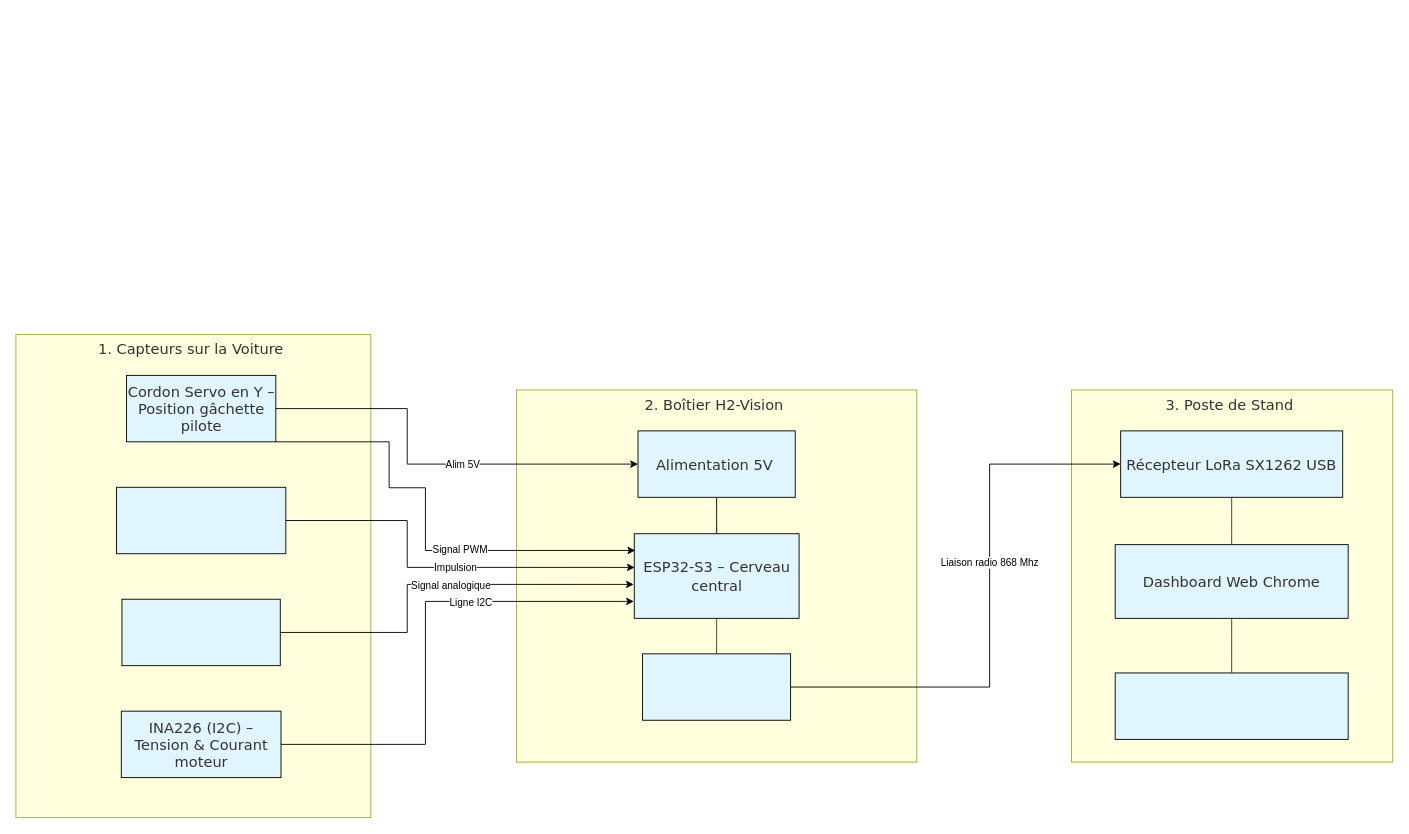
This 1409x834 diagram has some shape labels left out. Each missing label, with the box of its shape:
Capteur Hall A3144 + Aimant Néodyme – Vitesse réelle de roulage: (116, 486, 286, 554)
LoRa SX1262 868 MHz: (642, 653, 791, 720)
Sauvegarde CSV directe: (1114, 672, 1348, 739)
Thermistance NTC 10k B3950 – Température pile H2: (121, 598, 280, 666)
